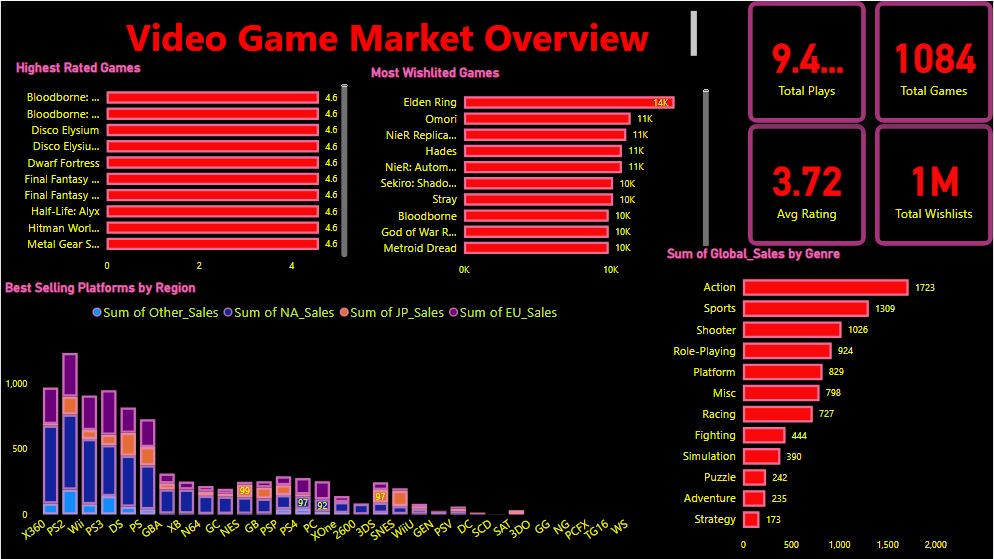

The dashboard page shown, as its layout file describes it:
{"tool":"powerbi","page":{"name":"🎮 Game Engagement Overview","canvas":[1280,720],"ordinal":1},"visuals":[{"type":"card","fields":{"Values":["video_game_analysis games_clean.Avg Rating"]},"box":[963.6,159.1,152,157.3],"z":0},{"type":"card","fields":{"Values":["video_game_analysis games_clean.Total Wishlists"]},"box":[1128,159.1,152,157.3],"z":1000},{"type":"card","fields":{"Values":["video_game_analysis games_clean.Total Plays"]},"box":[963.6,0,152,157.3],"z":2000},{"type":"card","fields":{"Values":["video_game_analysis games_clean.Total Games"]},"box":[1128,0,152,157.3],"z":3000},{"type":"clusteredBarChart","title":"Highest Rated Games","fields":{"Category":["video_game_analysis games_clean.Title"],"Y":["video_game_analysis games_clean.Avg Rating"]},"box":[14.2,76.5,438,283.5],"z":4000},{"type":"clusteredBarChart","title":"Most Wishlited Games","fields":{"Category":["video_game_analysis games_clean.Title"],"Y":["video_game_analysis games_clean.Total Wishlists"]},"box":[472,82.2,446.5,282],"z":5000},{"type":"columnChart","title":"Best Selling Platforms by Region","fields":{"Category":["video_game_analysis vgsales_clean.Platform"],"Y":["Sum(video_game_analysis vgsales_clean.Other_Sales)","Sum(video_game_analysis vgsales_clean.NA_Sales)","Sum(video_game_analysis vgsales_clean.JP_Sales)","Sum(video_game_analysis vgsales_clean.EU_Sales)"]},"box":[0,360,840.5,360],"z":6000},{"type":"clusteredBarChart","fields":{"Category":["video_game_analysis vgsales_clean.Genre"],"Y":["Sum(video_game_analysis vgsales_clean.Global_Sales)"]},"box":[854.5,316.4,425.5,404],"z":7000},{"type":"textbox","box":[101.3,7.1,800.5,71.3],"z":8000}]}

Visuals, with their boxes in screenshot pixels (x1, y1, x2, y2), scaled from the page's 1280x720 canvas onto the 994x559 screenshot:
card - video_game_analysis games_clean.Avg Rating: rect(748, 124, 866, 246)
card - video_game_analysis games_clean.Total Wishlists: rect(876, 124, 993, 246)
card - video_game_analysis games_clean.Total Plays: rect(748, 0, 866, 122)
card - video_game_analysis games_clean.Total Games: rect(876, 0, 993, 122)
"Highest Rated Games" clusteredBarChart: rect(11, 59, 351, 280)
"Most Wishlited Games" clusteredBarChart: rect(367, 64, 713, 283)
"Best Selling Platforms by Region" columnChart: rect(0, 280, 653, 558)
clusteredBarChart - video_game_analysis vgsales_clean.Genre x Sum(video_game_analysis vgsales_clean.Global_Sales): rect(664, 246, 993, 558)
textbox: rect(79, 6, 700, 61)
